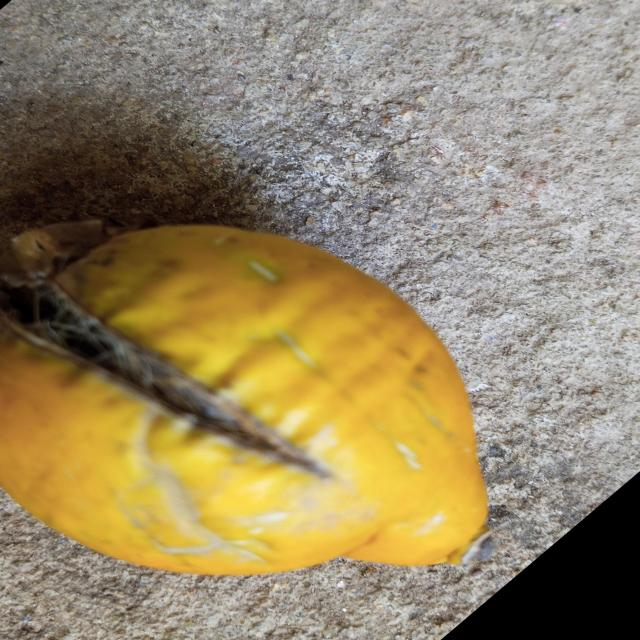damaged: (0, 220, 489, 575)
